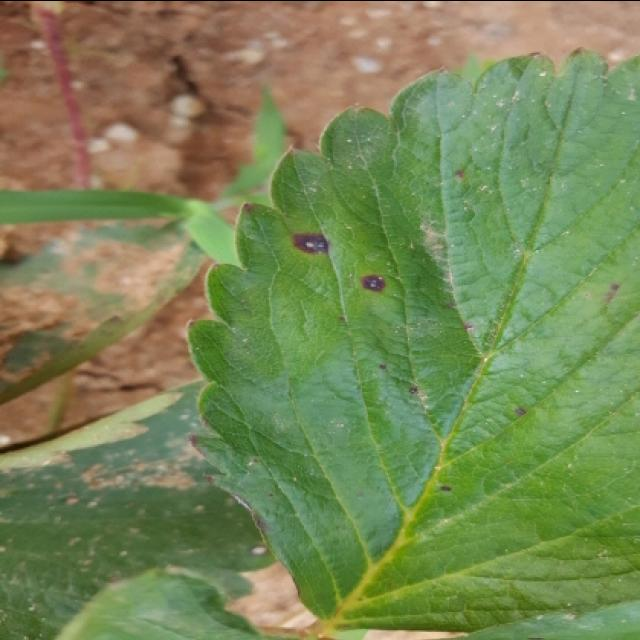Leaf Spot: (186, 45, 638, 633), (0, 375, 279, 640)
